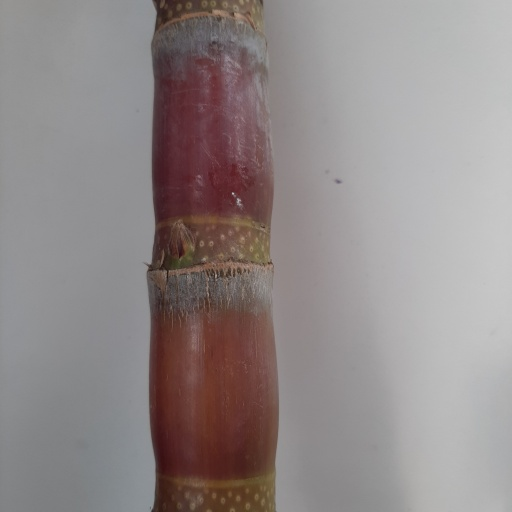Bud: (166, 221, 194, 259)
